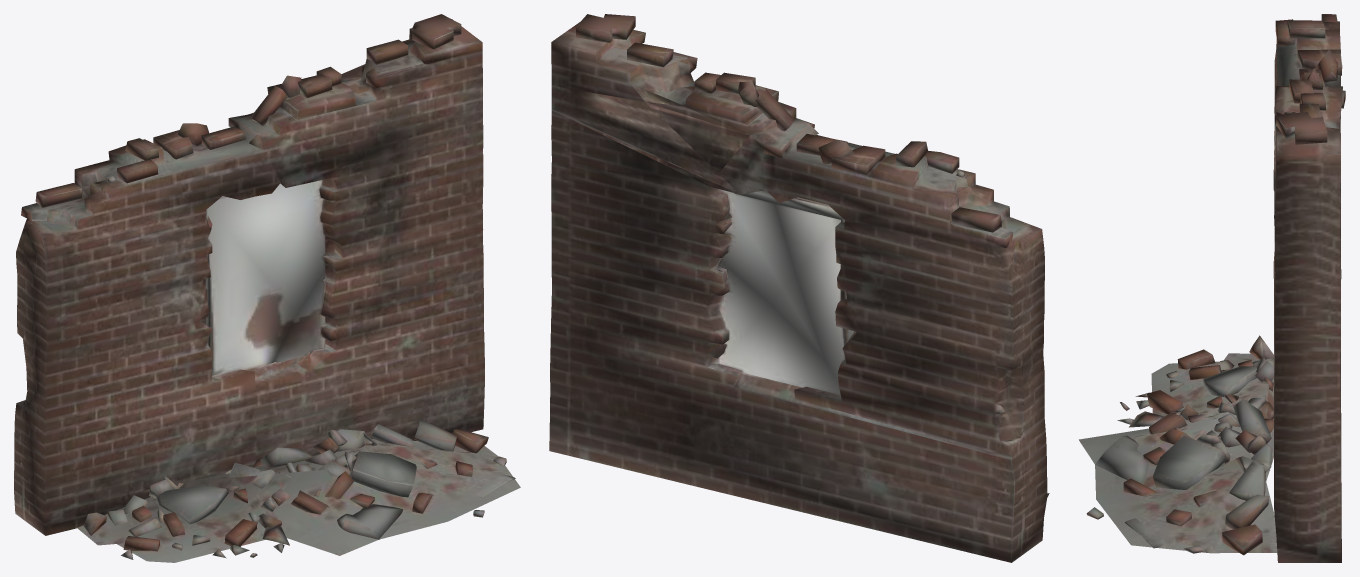
File: ruined_wall.glb
3 renders of one model, left to right at view 1: azimuth 30°, elevation 25°; view 2: azimuth 150°, elevation 25°; view 3: azimuth 270°, elevation 25°, orthographic. The views are drawn at different scales.
Parts seen in each view (by area): view 1: hull; view 2: hull; view 3: hull.
Boxes of the visible parts, x1=… form: hull: x1=14, y1=14, x2=520, y2=562; hull: x1=549, y1=14, x2=1049, y2=562; hull: x1=1079, y1=14, x2=1345, y2=562.
Bounding box in the file's own units: 6 × 5.25 × 3.01.
Materials: 1 (1 with a texture image).
